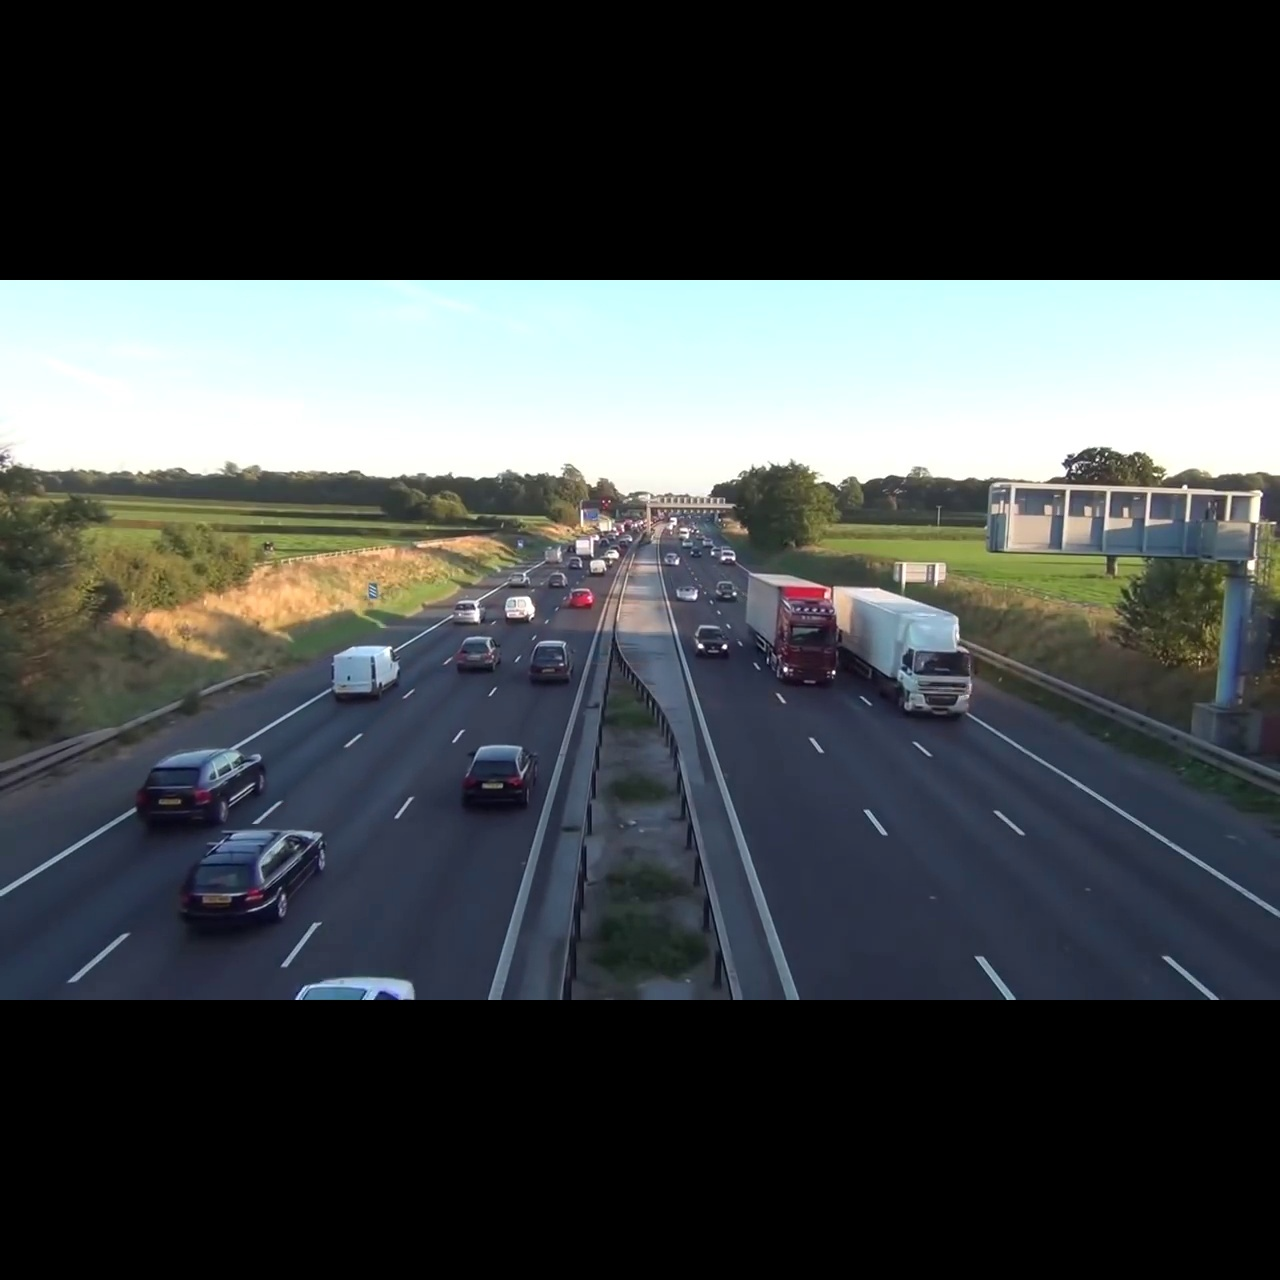vehicle: (840, 583, 985, 719), (181, 818, 339, 930), (131, 742, 273, 833), (741, 570, 839, 692), (457, 737, 546, 816), (327, 642, 406, 704), (526, 636, 576, 688), (456, 635, 504, 673), (688, 620, 731, 661), (503, 594, 536, 624), (452, 598, 486, 626), (567, 586, 595, 612), (713, 581, 738, 602), (508, 572, 532, 588), (676, 585, 699, 602), (547, 572, 568, 588), (588, 560, 608, 576), (663, 553, 682, 567), (568, 556, 584, 570)
